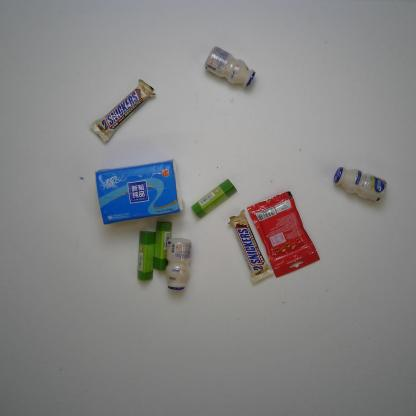Candy: (246, 191, 320, 278)
Chocolate: (88, 78, 157, 143), (227, 208, 274, 284)
Milk: (202, 46, 257, 88), (332, 166, 388, 204), (164, 237, 192, 290)
Stationery: (190, 178, 238, 220), (153, 221, 173, 271), (137, 230, 156, 282)
Tissue: (94, 158, 184, 226)
